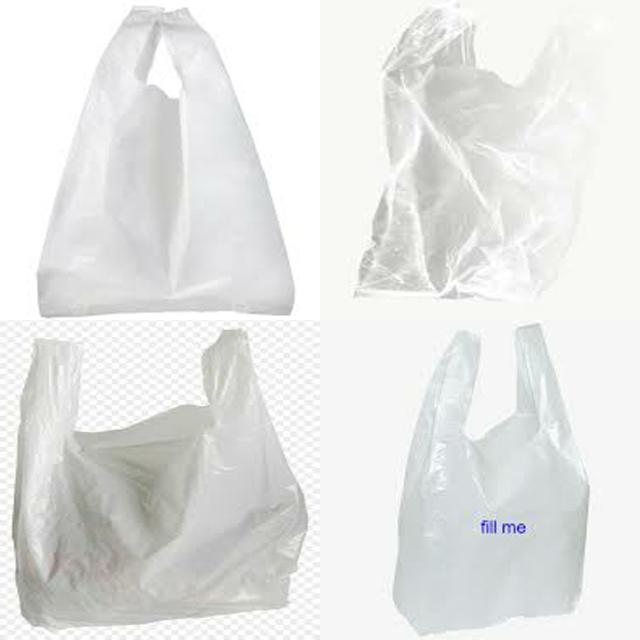Single-layer Plastic: (12, 330, 308, 628), (38, 6, 294, 316), (356, 6, 599, 300), (394, 324, 589, 632)
